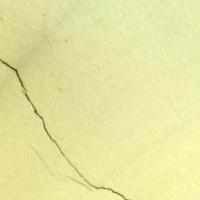crack: (0, 56, 130, 199)
